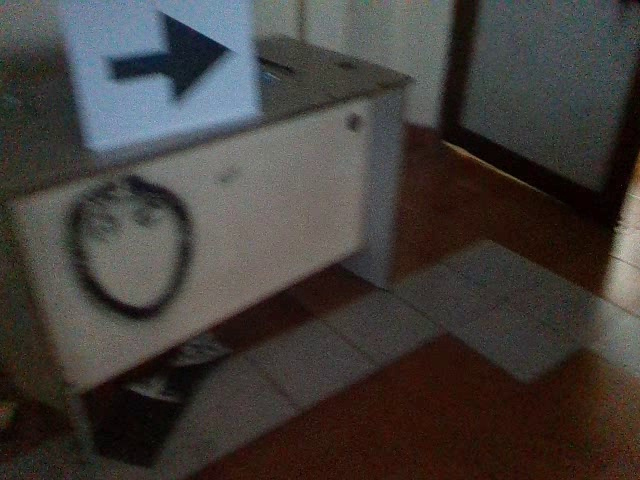Right: (95, 4, 238, 113)
